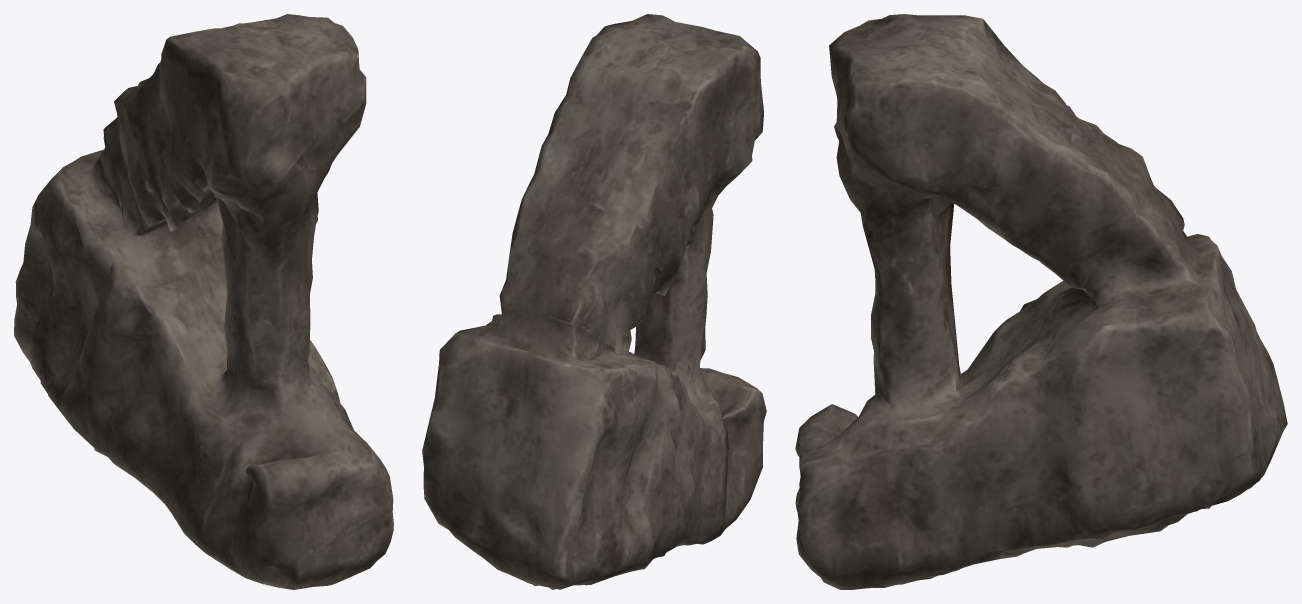
Rendered from SM_rock_01.glb.
The picture shows the model from 3 angles, left to right: view 1: azimuth 30°, elevation 25°; view 2: azimuth 150°, elevation 25°; view 3: azimuth 270°, elevation 25°; orthographic projection. The views are drawn at different scales.
Visible parts, largest first — view 1: SM_rock_01; view 2: SM_rock_01; view 3: SM_rock_01.
Part boxes in pixels (bbox=[...]): SM_rock_01: bbox=[14, 14, 393, 589]; SM_rock_01: bbox=[422, 14, 766, 589]; SM_rock_01: bbox=[795, 14, 1287, 589].
Size of the model in its own units: 54.96 by 145 by 120.
1 material, 1 textured.
